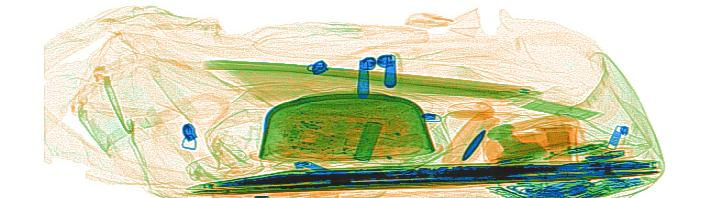seal: (484, 122, 548, 172)
